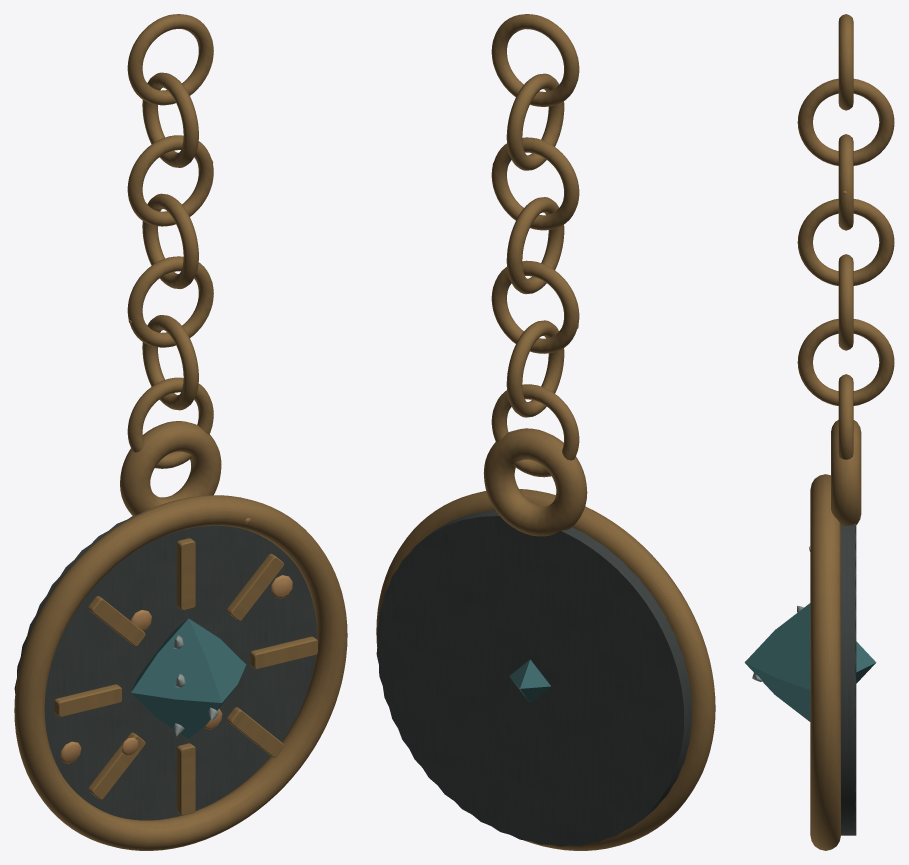
3 views of the same model, side by side, from view 1: azimuth 30°, elevation 25°; view 2: azimuth 150°, elevation 25°; view 3: azimuth 270°, elevation 25° (orthographic). The views are drawn at different scales.
Parts seen in each view (by area): view 1: edge hardware, machined receiver, polished stone, peened pin; view 2: machined receiver, edge hardware, polished stone; view 3: edge hardware, machined receiver, polished stone.
Part boxes in pixels (x1,y1,x2,y2): edge hardware: (14, 14, 347, 850); machined receiver: (14, 516, 317, 820); polished stone: (131, 618, 246, 738); peened pin: (60, 575, 292, 763); machined receiver: (376, 510, 691, 846); edge hardware: (376, 14, 715, 850); polished stone: (509, 659, 550, 703); edge hardware: (797, 14, 894, 850); machined receiver: (841, 523, 856, 835); polished stone: (744, 603, 876, 721).
Size of the model in its own units: 0.074 by 0.1765 by 0.0295.
5 materials, 2 textured.
